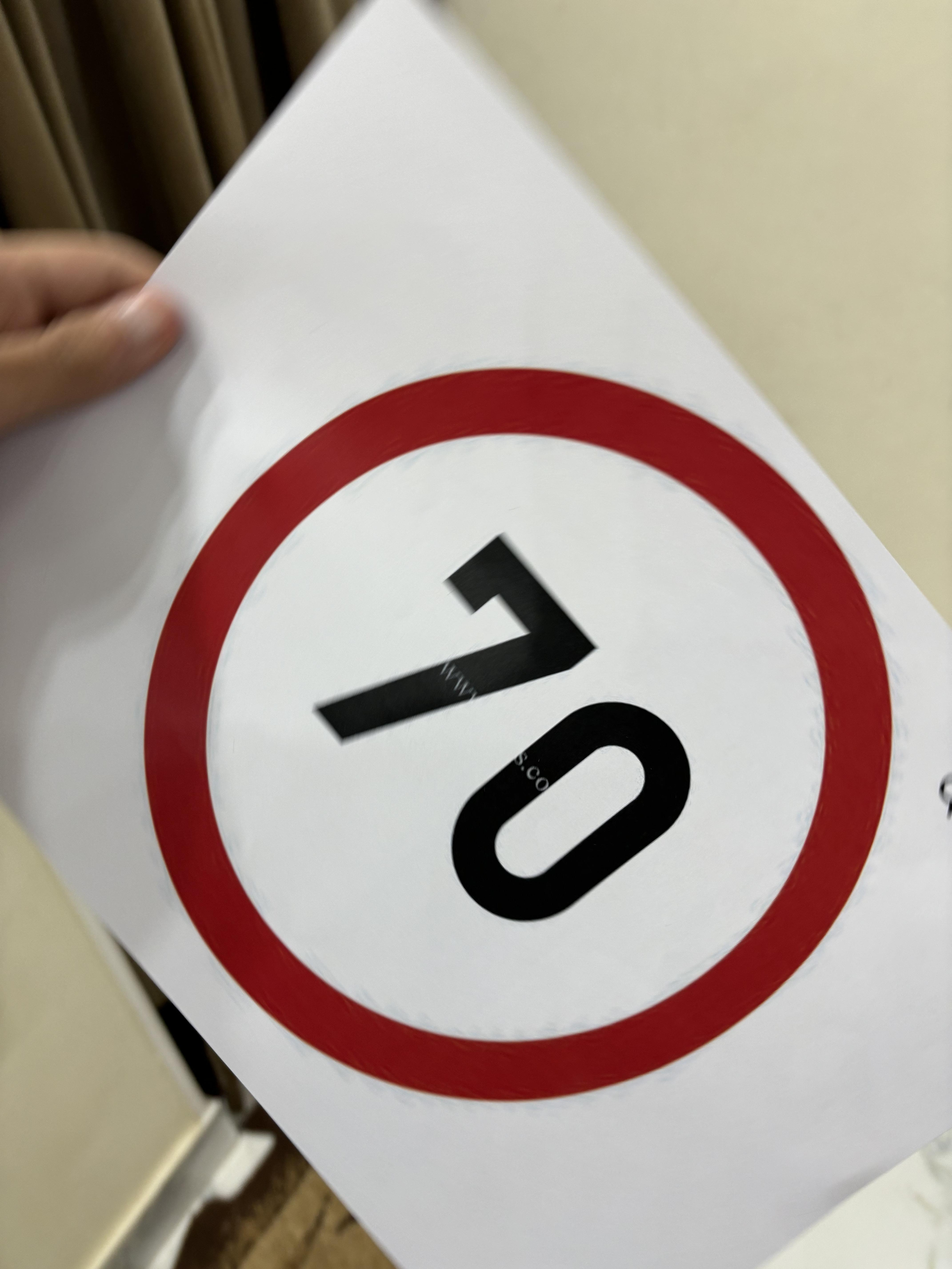70-Speed: (123, 356, 900, 1107)
